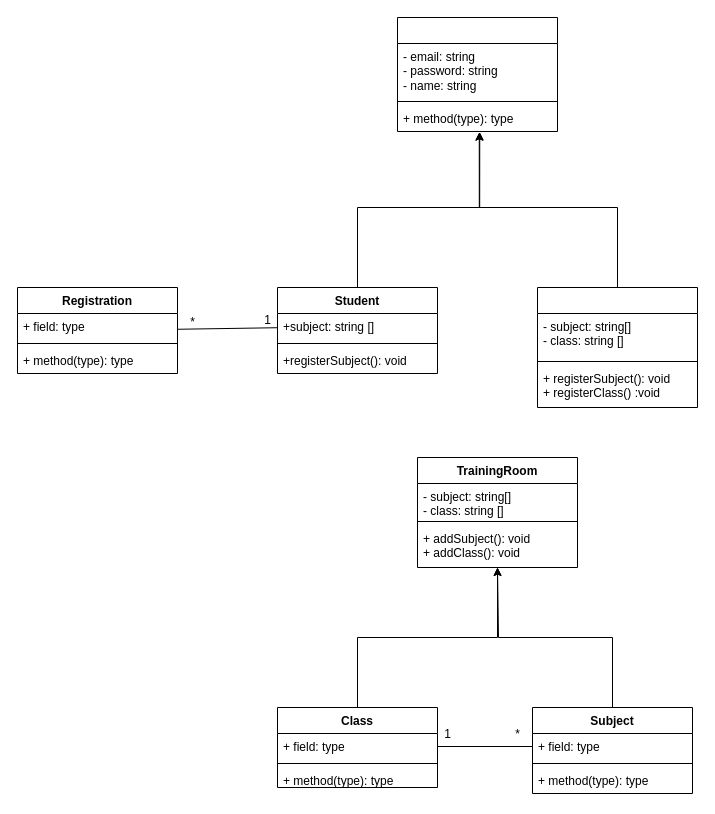
Some shapes in this 715 by 814 pixel diagram are drawn without their labels. The shapes that lost their labels are listed below. From the top down, each one's box as (x1, y1, x2, y2) in pixels, then its label:
(396, 16, 558, 132): User
(536, 286, 698, 408): Teacher
